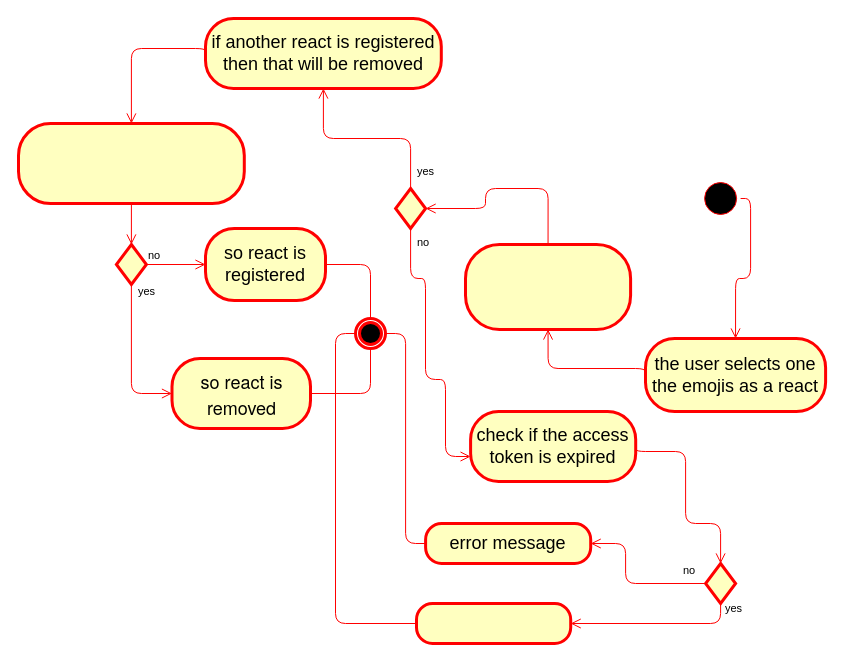
Some shapes in this 845 by 662 pixel diagram are drawn without their labels. Here are the shapes that lost their labels. From the top down, the centre of each, then its label:
At (x=130, y=163): "system checks if the user already has reacted same emoji to the news or not".
At (x=548, y=286): "checks if the credentials of user exists or are valid".
At (x=493, y=623): "need refresh".
